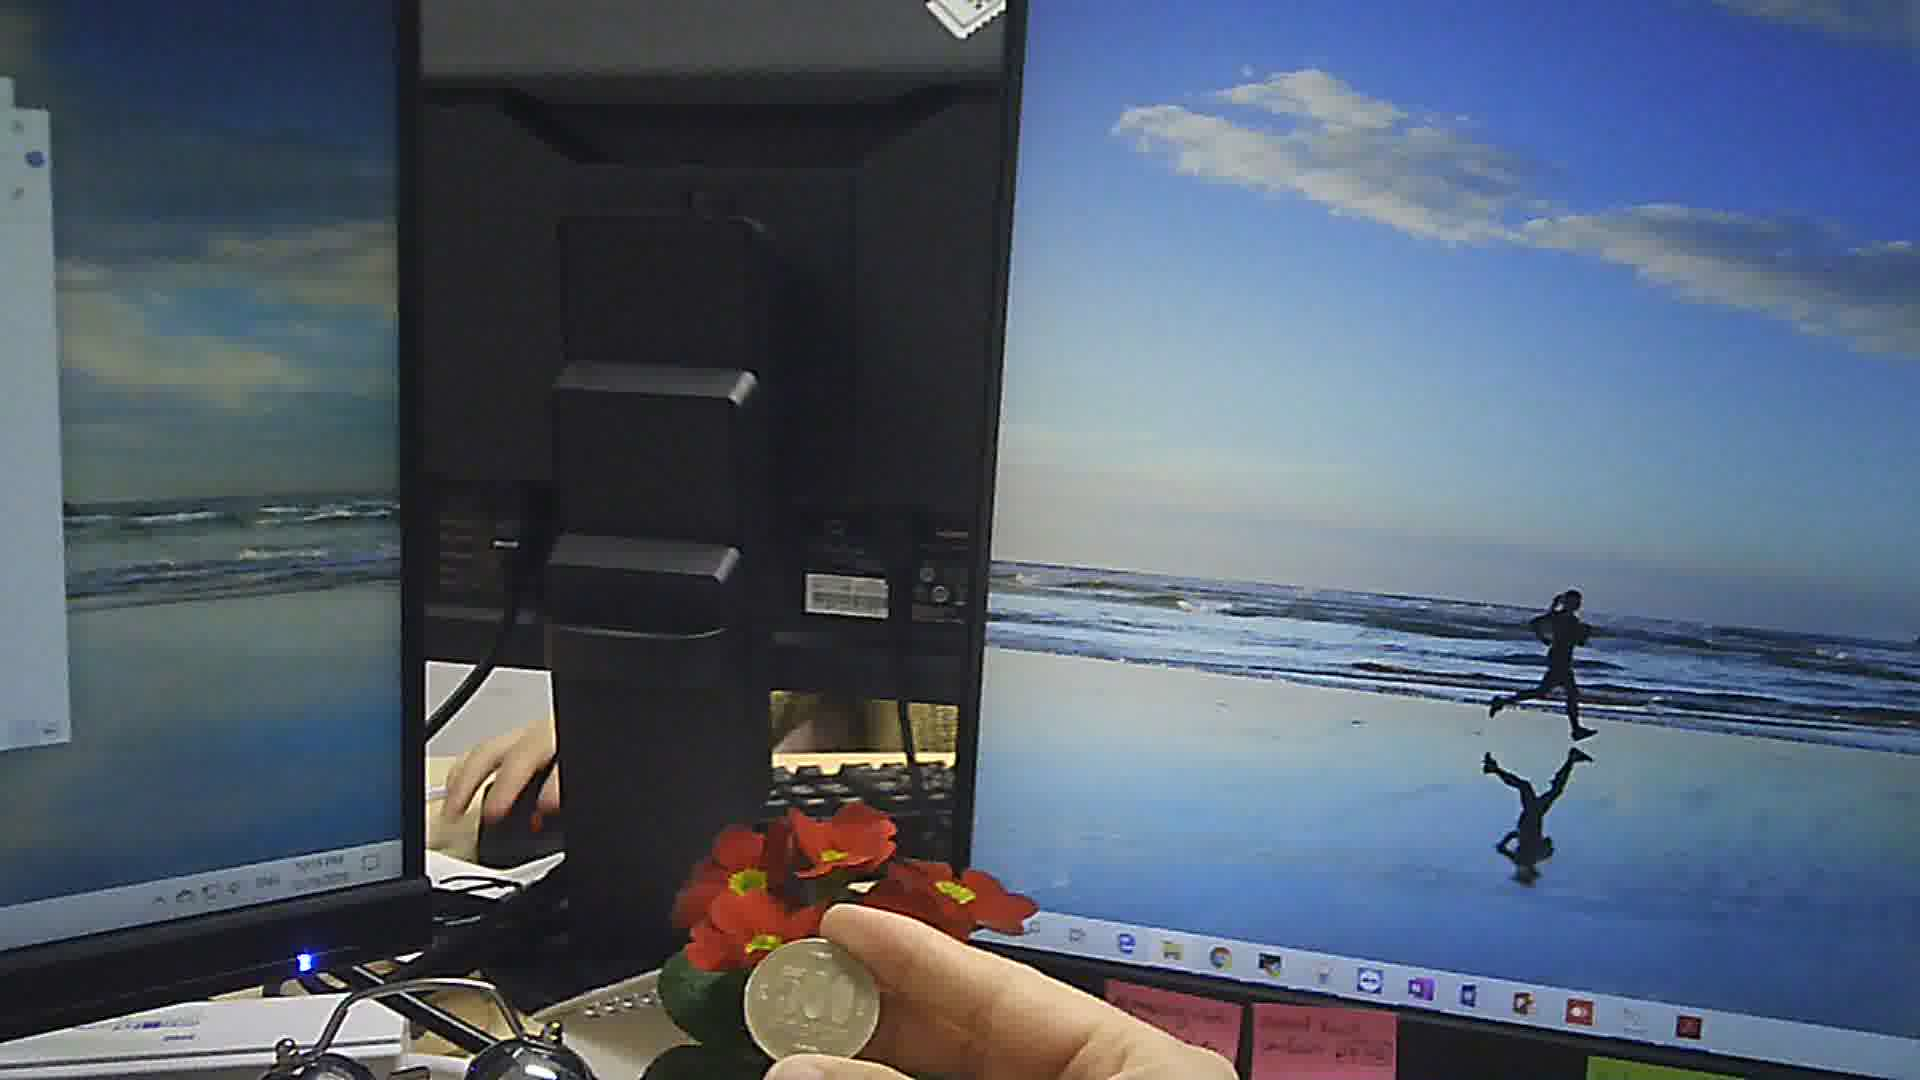500 Yen: (738, 935, 880, 1060)
